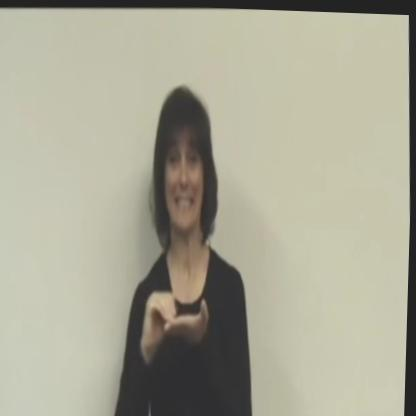ExcuseMe: (138, 268, 216, 368)
